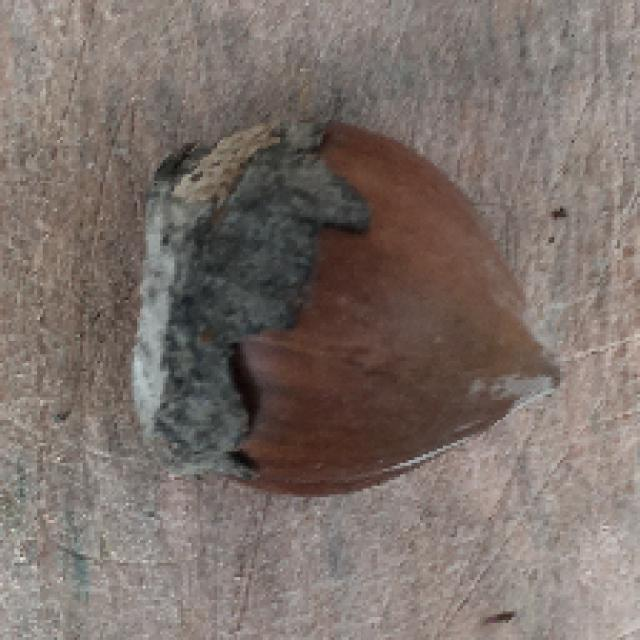damagedHazelnut: (133, 107, 573, 503)
